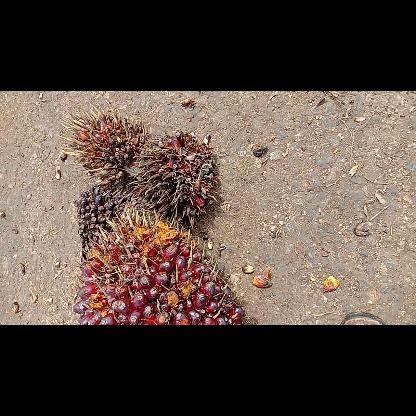TBS abnormal: (132, 127, 222, 229), (54, 99, 150, 184), (72, 180, 130, 264)
TBS masak: (72, 204, 249, 324)
